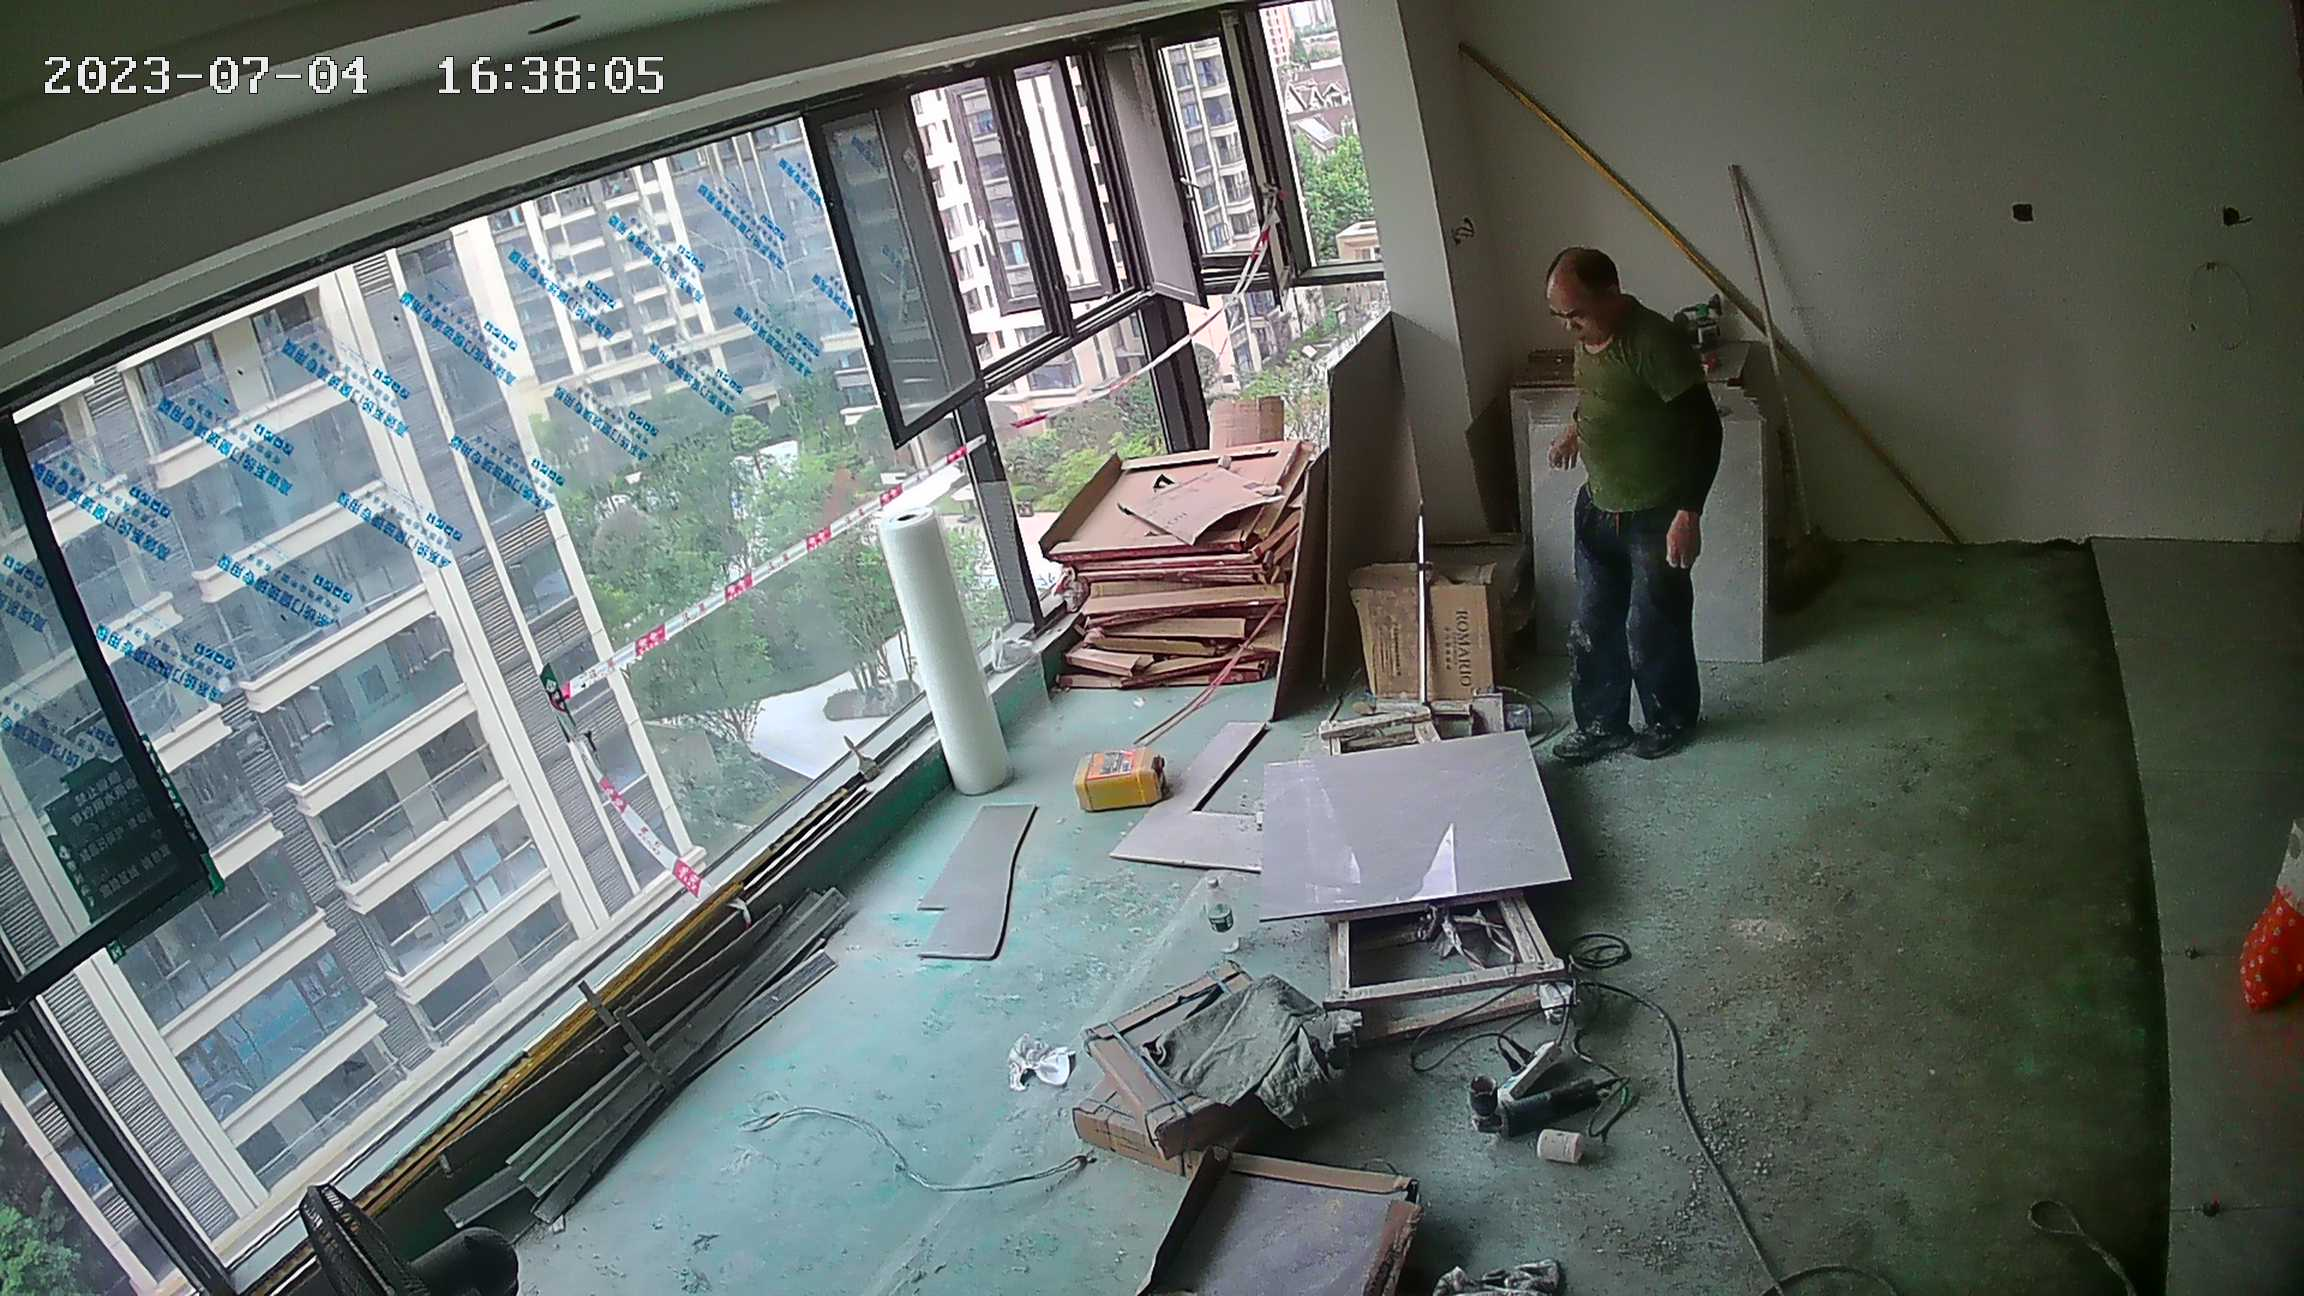people: (1512, 230, 1719, 766)
window: (10, 81, 1353, 951)
